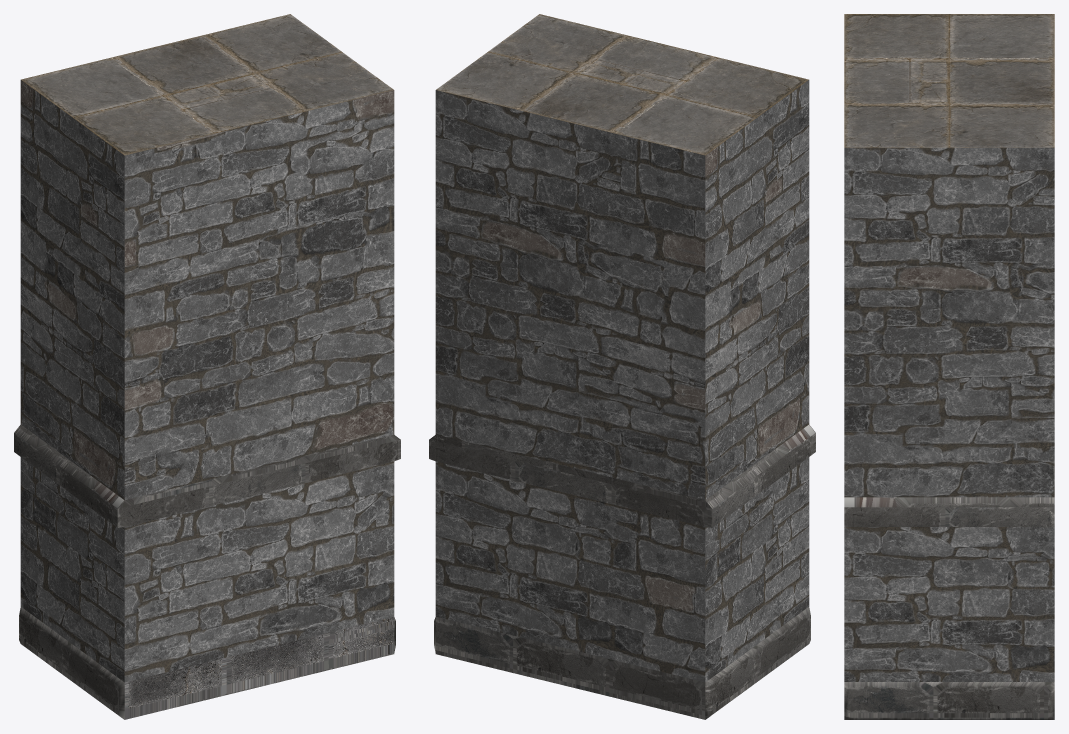
The model's file is MC_Castle_Wall_C_2m.fbx.
3 views of the same model, side by side, from view 1: azimuth 30°, elevation 25°; view 2: azimuth 150°, elevation 25°; view 3: azimuth 270°, elevation 25° (orthographic).
Parts seen in each view (by area): view 1: MC_Castle_Wall_C_2m; view 2: MC_Castle_Wall_C_2m; view 3: MC_Castle_Wall_C_2m.
Part boxes in pixels (<box>): MC_Castle_Wall_C_2m: <box>14,14,400,719</box>; MC_Castle_Wall_C_2m: <box>429,14,815,719</box>; MC_Castle_Wall_C_2m: <box>844,14,1054,719</box>.
Bounding box in the file's own units: 315 × 600 × 200.
